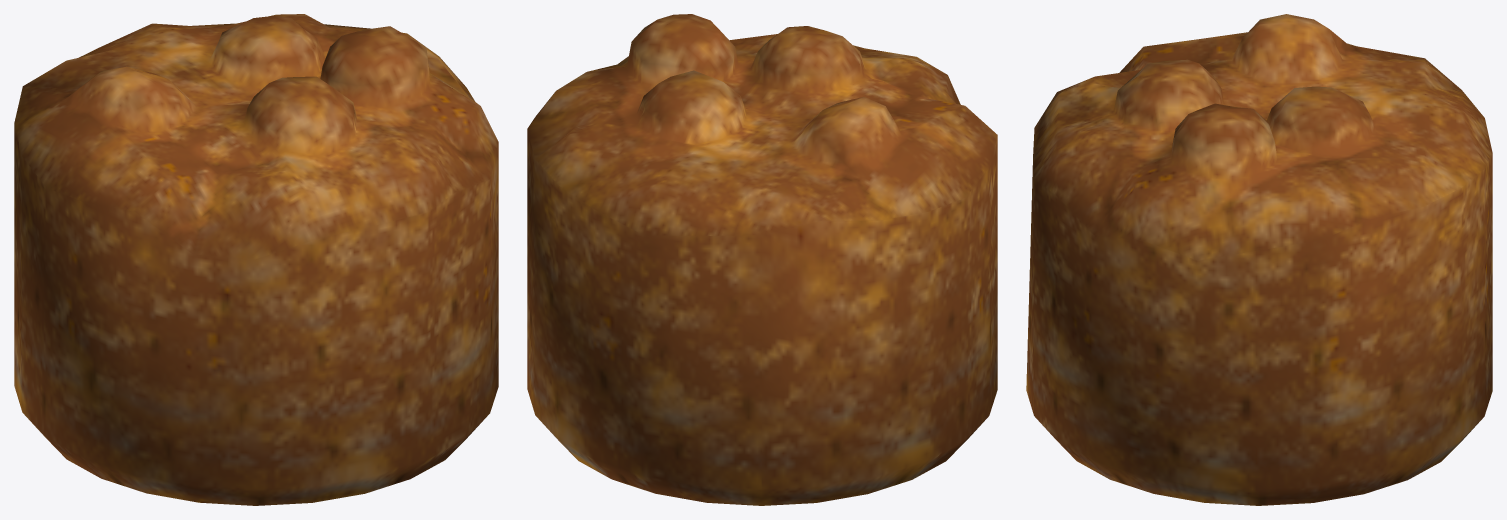
Rendered from M_Biscuit_02.FBX.
The picture shows the model from 3 angles, left to right: view 1: azimuth 30°, elevation 25°; view 2: azimuth 150°, elevation 25°; view 3: azimuth 270°, elevation 25°; orthographic projection. The views are drawn at different scales.
Parts seen in each view (by area): view 1: M_Biscuit_02; view 2: M_Biscuit_02; view 3: M_Biscuit_02.
Boxes of the visible parts, bbox=[...] form: M_Biscuit_02: bbox=[14, 14, 498, 505]; M_Biscuit_02: bbox=[527, 14, 997, 505]; M_Biscuit_02: bbox=[1026, 14, 1492, 505].
Size of the model in its own units: 10.78 by 10.78 by 9.
